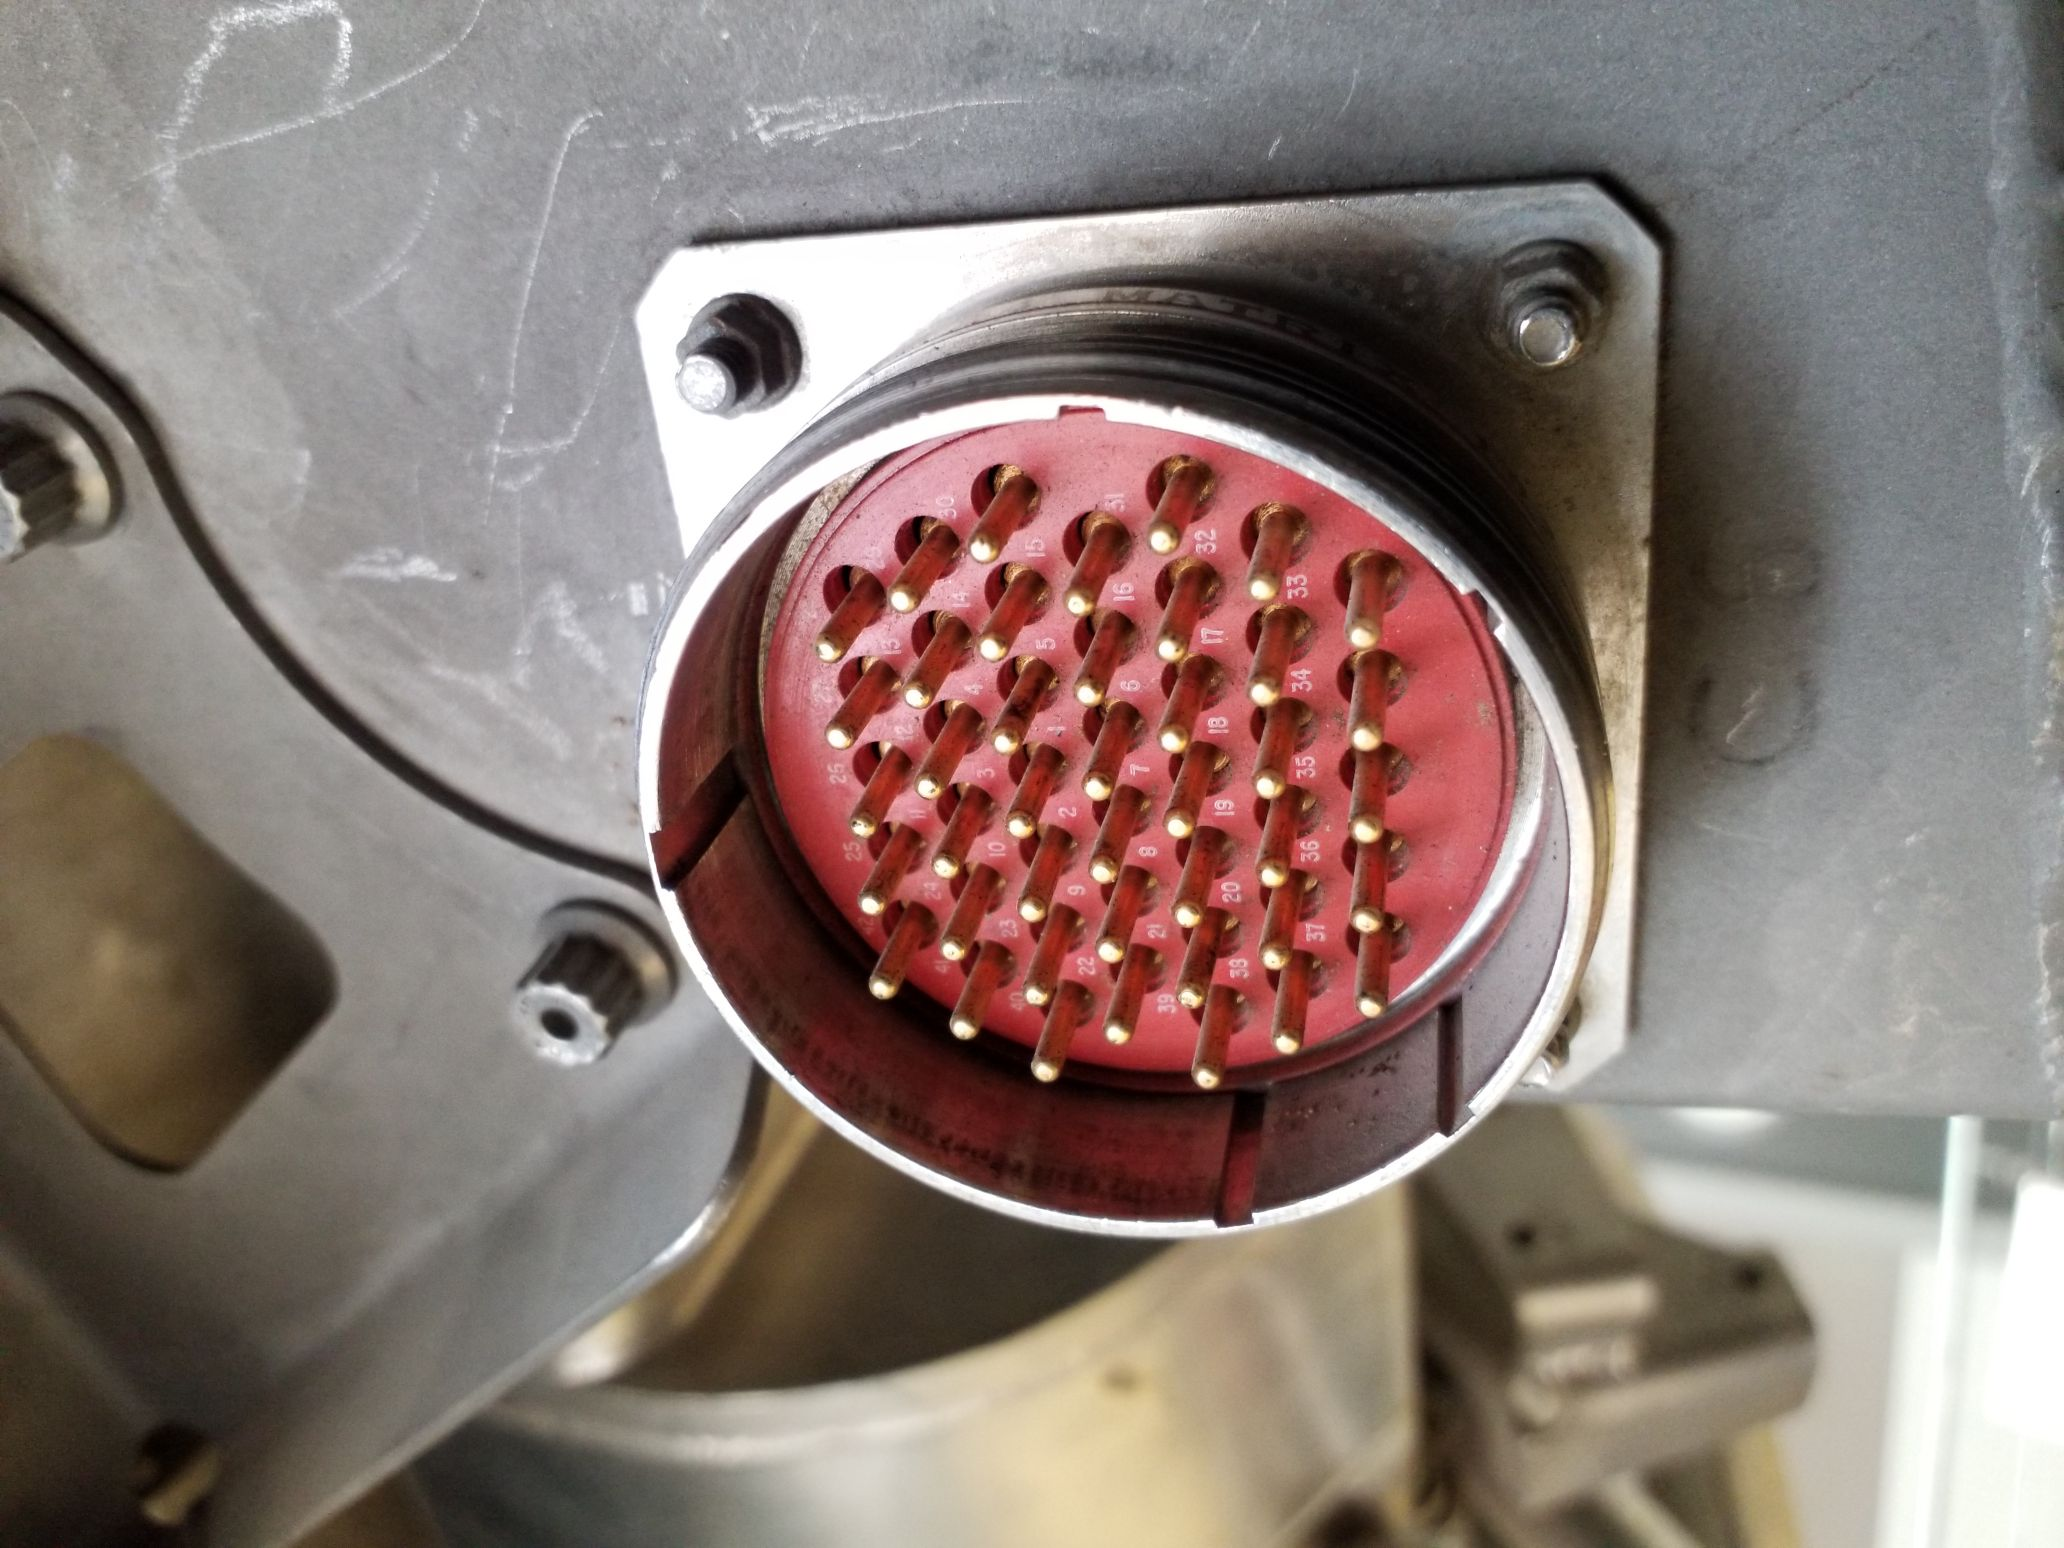outlet: (614, 353, 1624, 1257)
